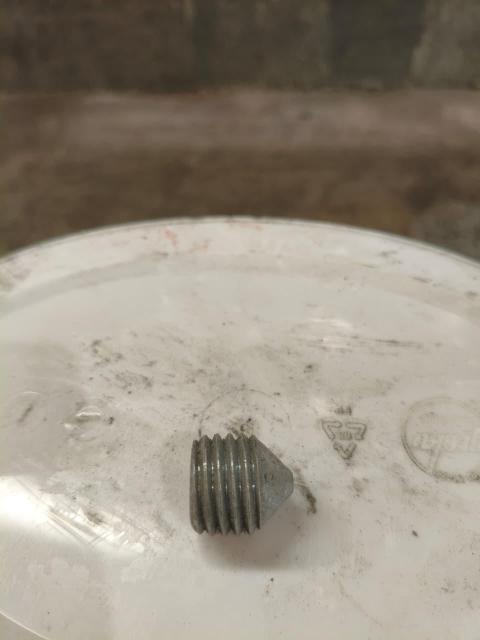Metal: (185, 422, 297, 533)
